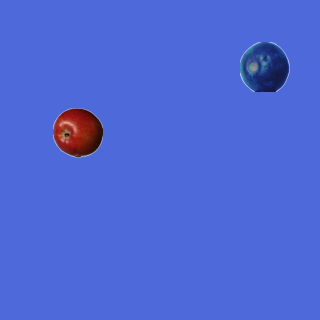Apple Braeburn: (52, 107, 102, 157)
Huckleberry: (239, 41, 289, 91)
